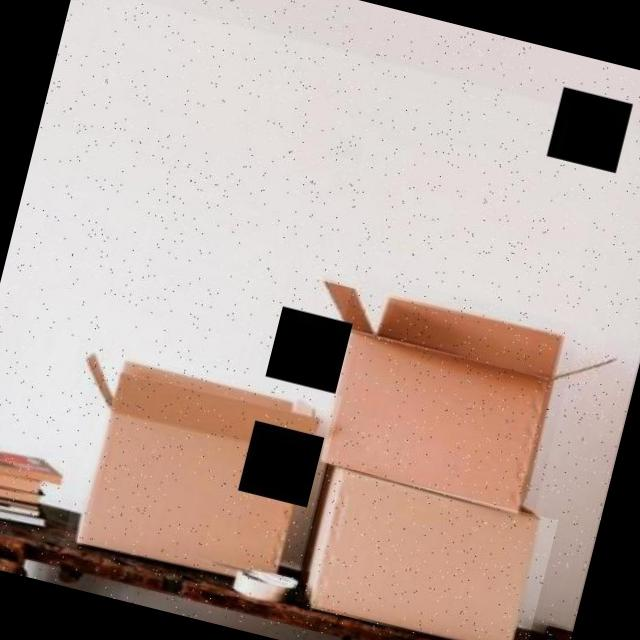box: (63, 339, 342, 596), (308, 270, 580, 520), (294, 463, 557, 640)
